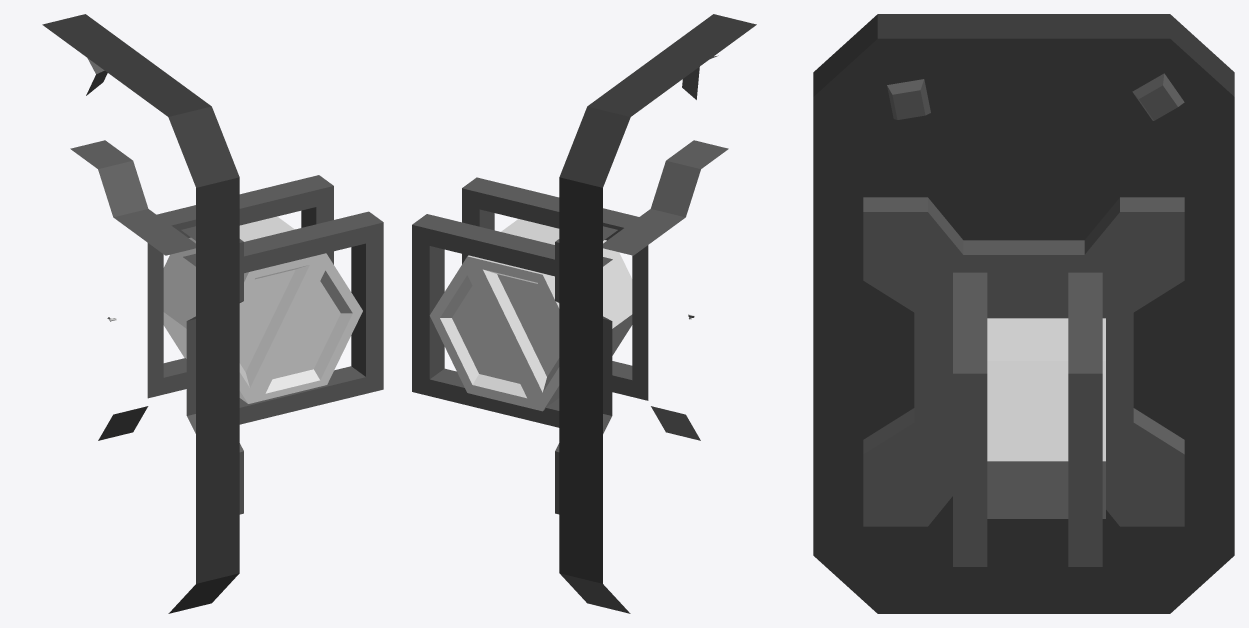
Rendered from SM_Camera.glb.
3 renders of one model, left to right at view 1: azimuth 30°, elevation 25°; view 2: azimuth 150°, elevation 25°; view 3: azimuth 270°, elevation 25°, orthographic. The views are drawn at different scales.
Visible parts, largest first — view 1: SM_Camera, SM_Loop; view 2: SM_Camera, SM_Loop; view 3: SM_Camera, SM_Loop.
Boxes of the visible parts, x1,y1,x2,y2 form: SM_Camera: [42, 14, 383, 613]; SM_Loop: [163, 216, 362, 403]; SM_Camera: [412, 14, 756, 613]; SM_Loop: [429, 219, 632, 411]; SM_Camera: [813, 14, 1234, 613]; SM_Loop: [987, 318, 1105, 518].
Size of the model in its own units: 0.1771 by 0.3392 by 0.2251.
1 material, 1 textured.
